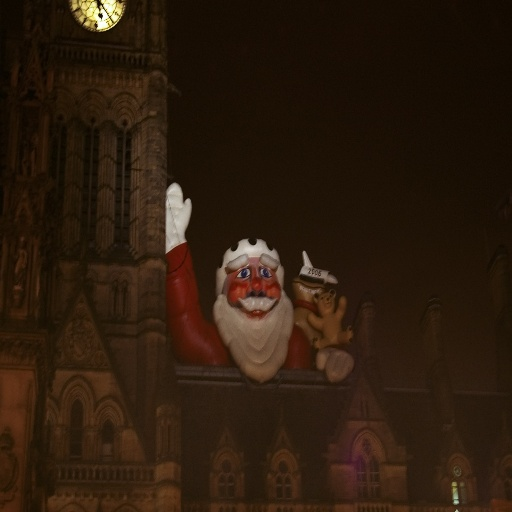hand: (162, 183, 195, 254)
